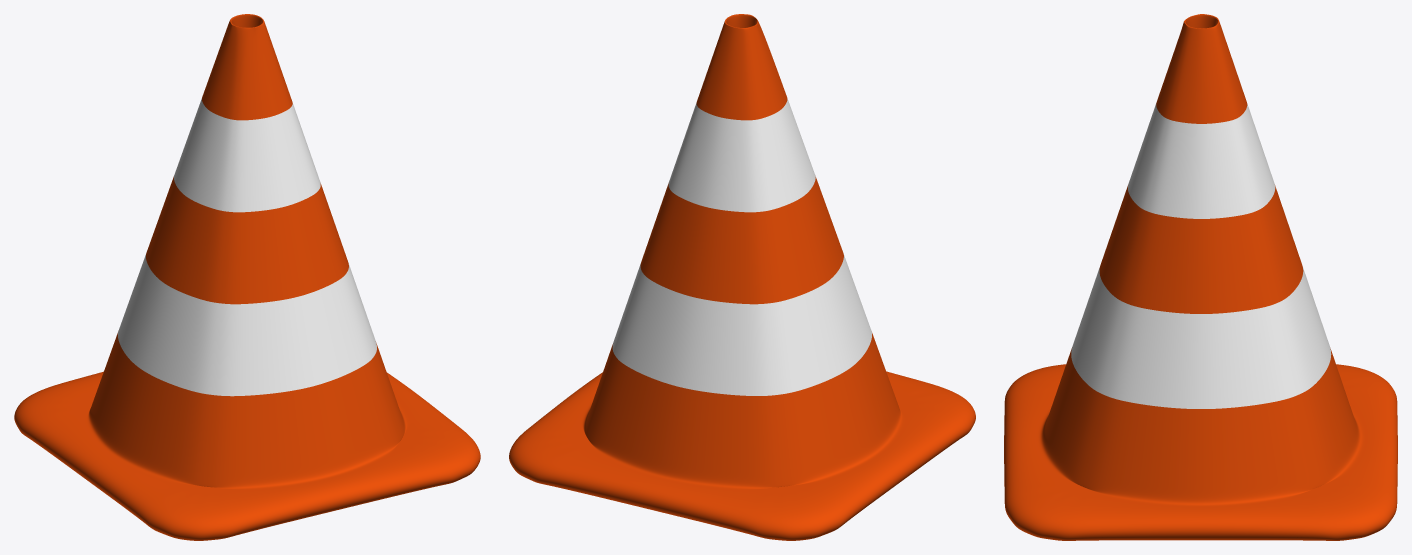
Rendered from traffic_cone.fbx.
The picture shows the model from 3 angles, left to right: view 1: azimuth 30°, elevation 25°; view 2: azimuth 150°, elevation 25°; view 3: azimuth 270°, elevation 25°; orthographic projection. The views are drawn at different scales.
Visible parts, largest first — view 1: Plane; view 2: Plane; view 3: Plane.
Boxes of the visible parts, x1=… form: Plane: x1=14, y1=14, x2=480, y2=540; Plane: x1=509, y1=14, x2=975, y2=540; Plane: x1=1004, y1=14, x2=1397, y2=540.
Size of the model in its own units: 197 by 247 by 197.
